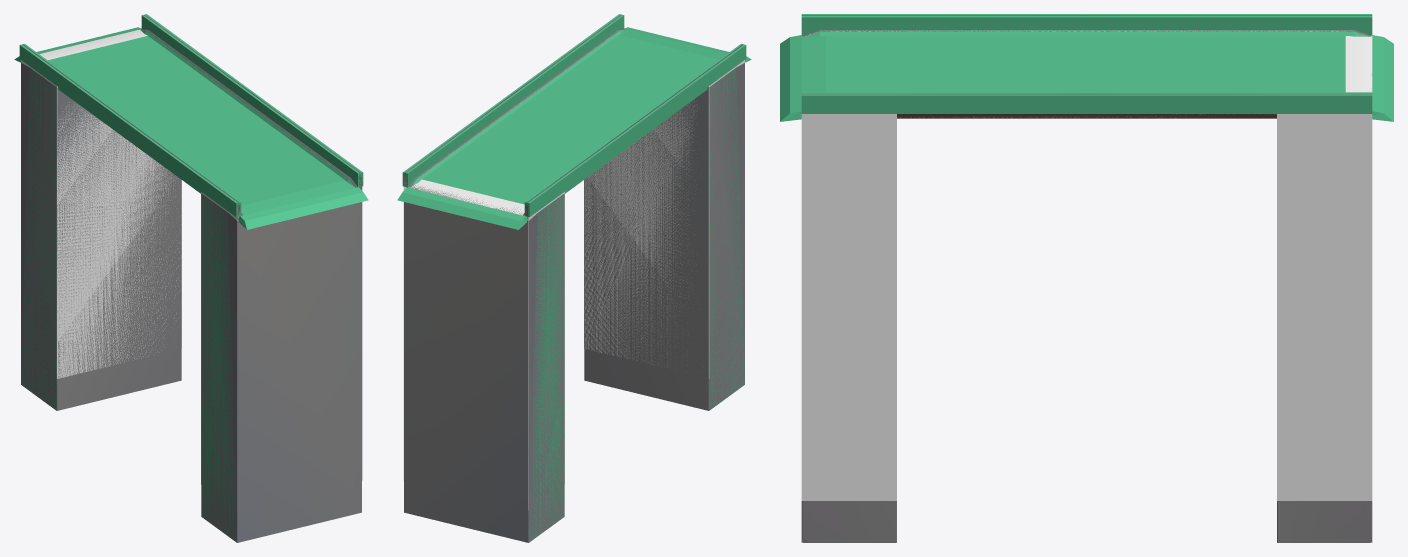
File: eca_bld_bridge_concrete_22m.dae
3 renders of one model, left to right at view 1: azimuth 30°, elevation 25°; view 2: azimuth 150°, elevation 25°; view 3: azimuth 270°, elevation 25°, orthographic. The views are drawn at different scales.
Parts seen in each view (by area): view 1: ind_bld_a100, Colmesh-1, ind_bld_a20, ind_bld_a400; view 2: ind_bld_a100, Colmesh-1, ind_bld_a20, ind_bld_a400; view 3: ind_bld_a20, Colmesh-1, ind_bld_a100, ind_bld_a400.
Boxes of the visible parts, x1,y1,x2,y2 form: ind_bld_a100: (21,14,362,542); Colmesh-1: (14,14,368,541); ind_bld_a20: (21,60,362,510); ind_bld_a400: (39,29,360,219); ind_bld_a100: (403,14,744,542); Colmesh-1: (397,14,751,542); ind_bld_a20: (403,60,744,510); ind_bld_a400: (404,30,622,217); ind_bld_a20: (801,114,1372,500); Colmesh-1: (780,14,1393,121); ind_bld_a100: (801,15,1372,542); ind_bld_a400: (805,31,1372,117).
Bounding box in the file's own units: 8.13 × 25.83 × 20.8.
